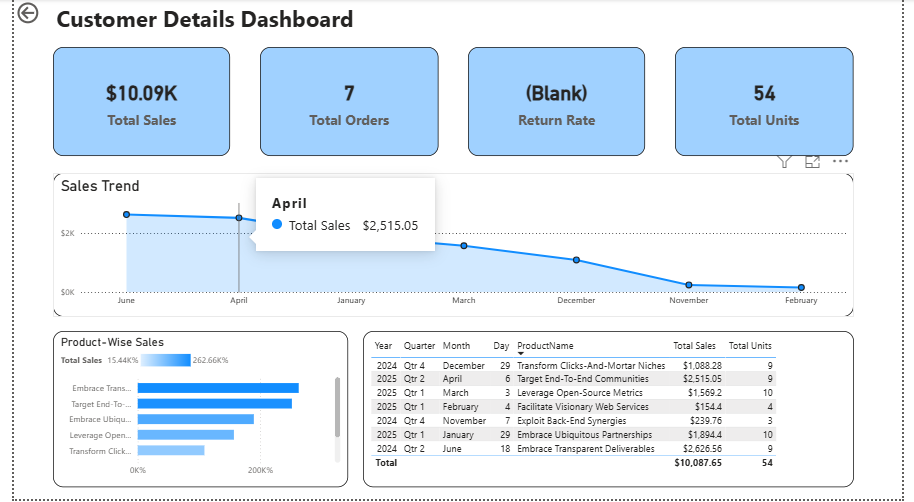

Layout of this report page (visuals, bound fields, positions):
{"tool":"powerbi","page":{"name":"Customer Details Dashboard","canvas":[1280,720],"ordinal":1},"visuals":[{"type":"actionButton","box":[0,0,100,40],"z":0},{"type":"card","fields":{"Values":["FactSales.Total Sales"]},"box":[56.2,69.1,255.4,157],"z":0,"group":"g1"},{"type":"card","fields":{"Values":["FactSales.Total Orders"]},"box":[354.4,69.1,257.1,157],"z":1000,"group":"g1"},{"type":"lineChart","title":"Sales Trend  ","fields":{"Y":["FactSales.Total Sales"],"Category":["Date_DIm.Month"]},"box":[56.2,250.6,1153.4,207.4],"z":1000},{"type":"group","id":"g1","title":"Group 1","box":[56.2,69.1,1153.4,157],"z":2000},{"type":"card","fields":{"Values":["FactReturns.Return Rate"]},"box":[654.3,69.1,255.4,157],"z":2000,"group":"g1"},{"type":"card","fields":{"Values":["FactSales.Total Units"]},"box":[952.6,69.1,257.1,157],"z":3000,"group":"g1"},{"type":"barChart","title":"Product-Wise Sales","fields":{"Category":["Product_Dim.ProductName"],"Y":["FactSales.Total Sales"]},"box":[56.2,478.1,424.8,224.6],"z":3000},{"type":"tableEx","fields":{"Values":["Date_DIm.Date.Variation.Date Hierarchy.Year","Date_DIm.Date.Variation.Date Hierarchy.Quarter","Date_DIm.Date.Variation.Date Hierarchy.Month","Date_DIm.Date.Variation.Date Hierarchy.Day","Product_Dim.ProductName","FactSales.Total Sales","FactSales.Total Units"]},"box":[502.6,478.1,707,224.6],"z":4000},{"type":"textbox","box":[56.2,0,459.4,54.7],"z":5000}]}

Visuals, with their boxes in screenshot pixels (x1, y1, x2, y2), scaled from the page's 1280x720 canvas onto the 914x502 screenshot:
actionButton: (0,0,71,28)
card - FactSales.Total Sales: (40,48,223,158)
card - FactSales.Total Orders: (253,48,437,158)
"Sales Trend  " lineChart: (40,175,864,319)
"Group 1" group: (40,48,864,158)
card - FactReturns.Return Rate: (467,48,650,158)
card - FactSales.Total Units: (680,48,864,158)
"Product-Wise Sales" barChart: (40,333,343,490)
tableEx - Date_DIm.Date.Variation.Date Hierarchy.Year x Date_DIm.Date.Variation.Date Hierarchy.Quarter: (359,333,864,490)
textbox: (40,0,368,38)
